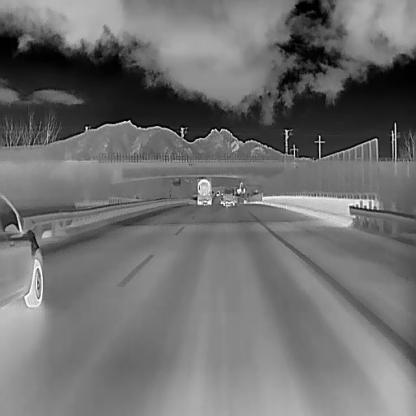car: (0, 190, 43, 309), (222, 186, 235, 206), (215, 189, 220, 196)
truck: (196, 177, 211, 206)
